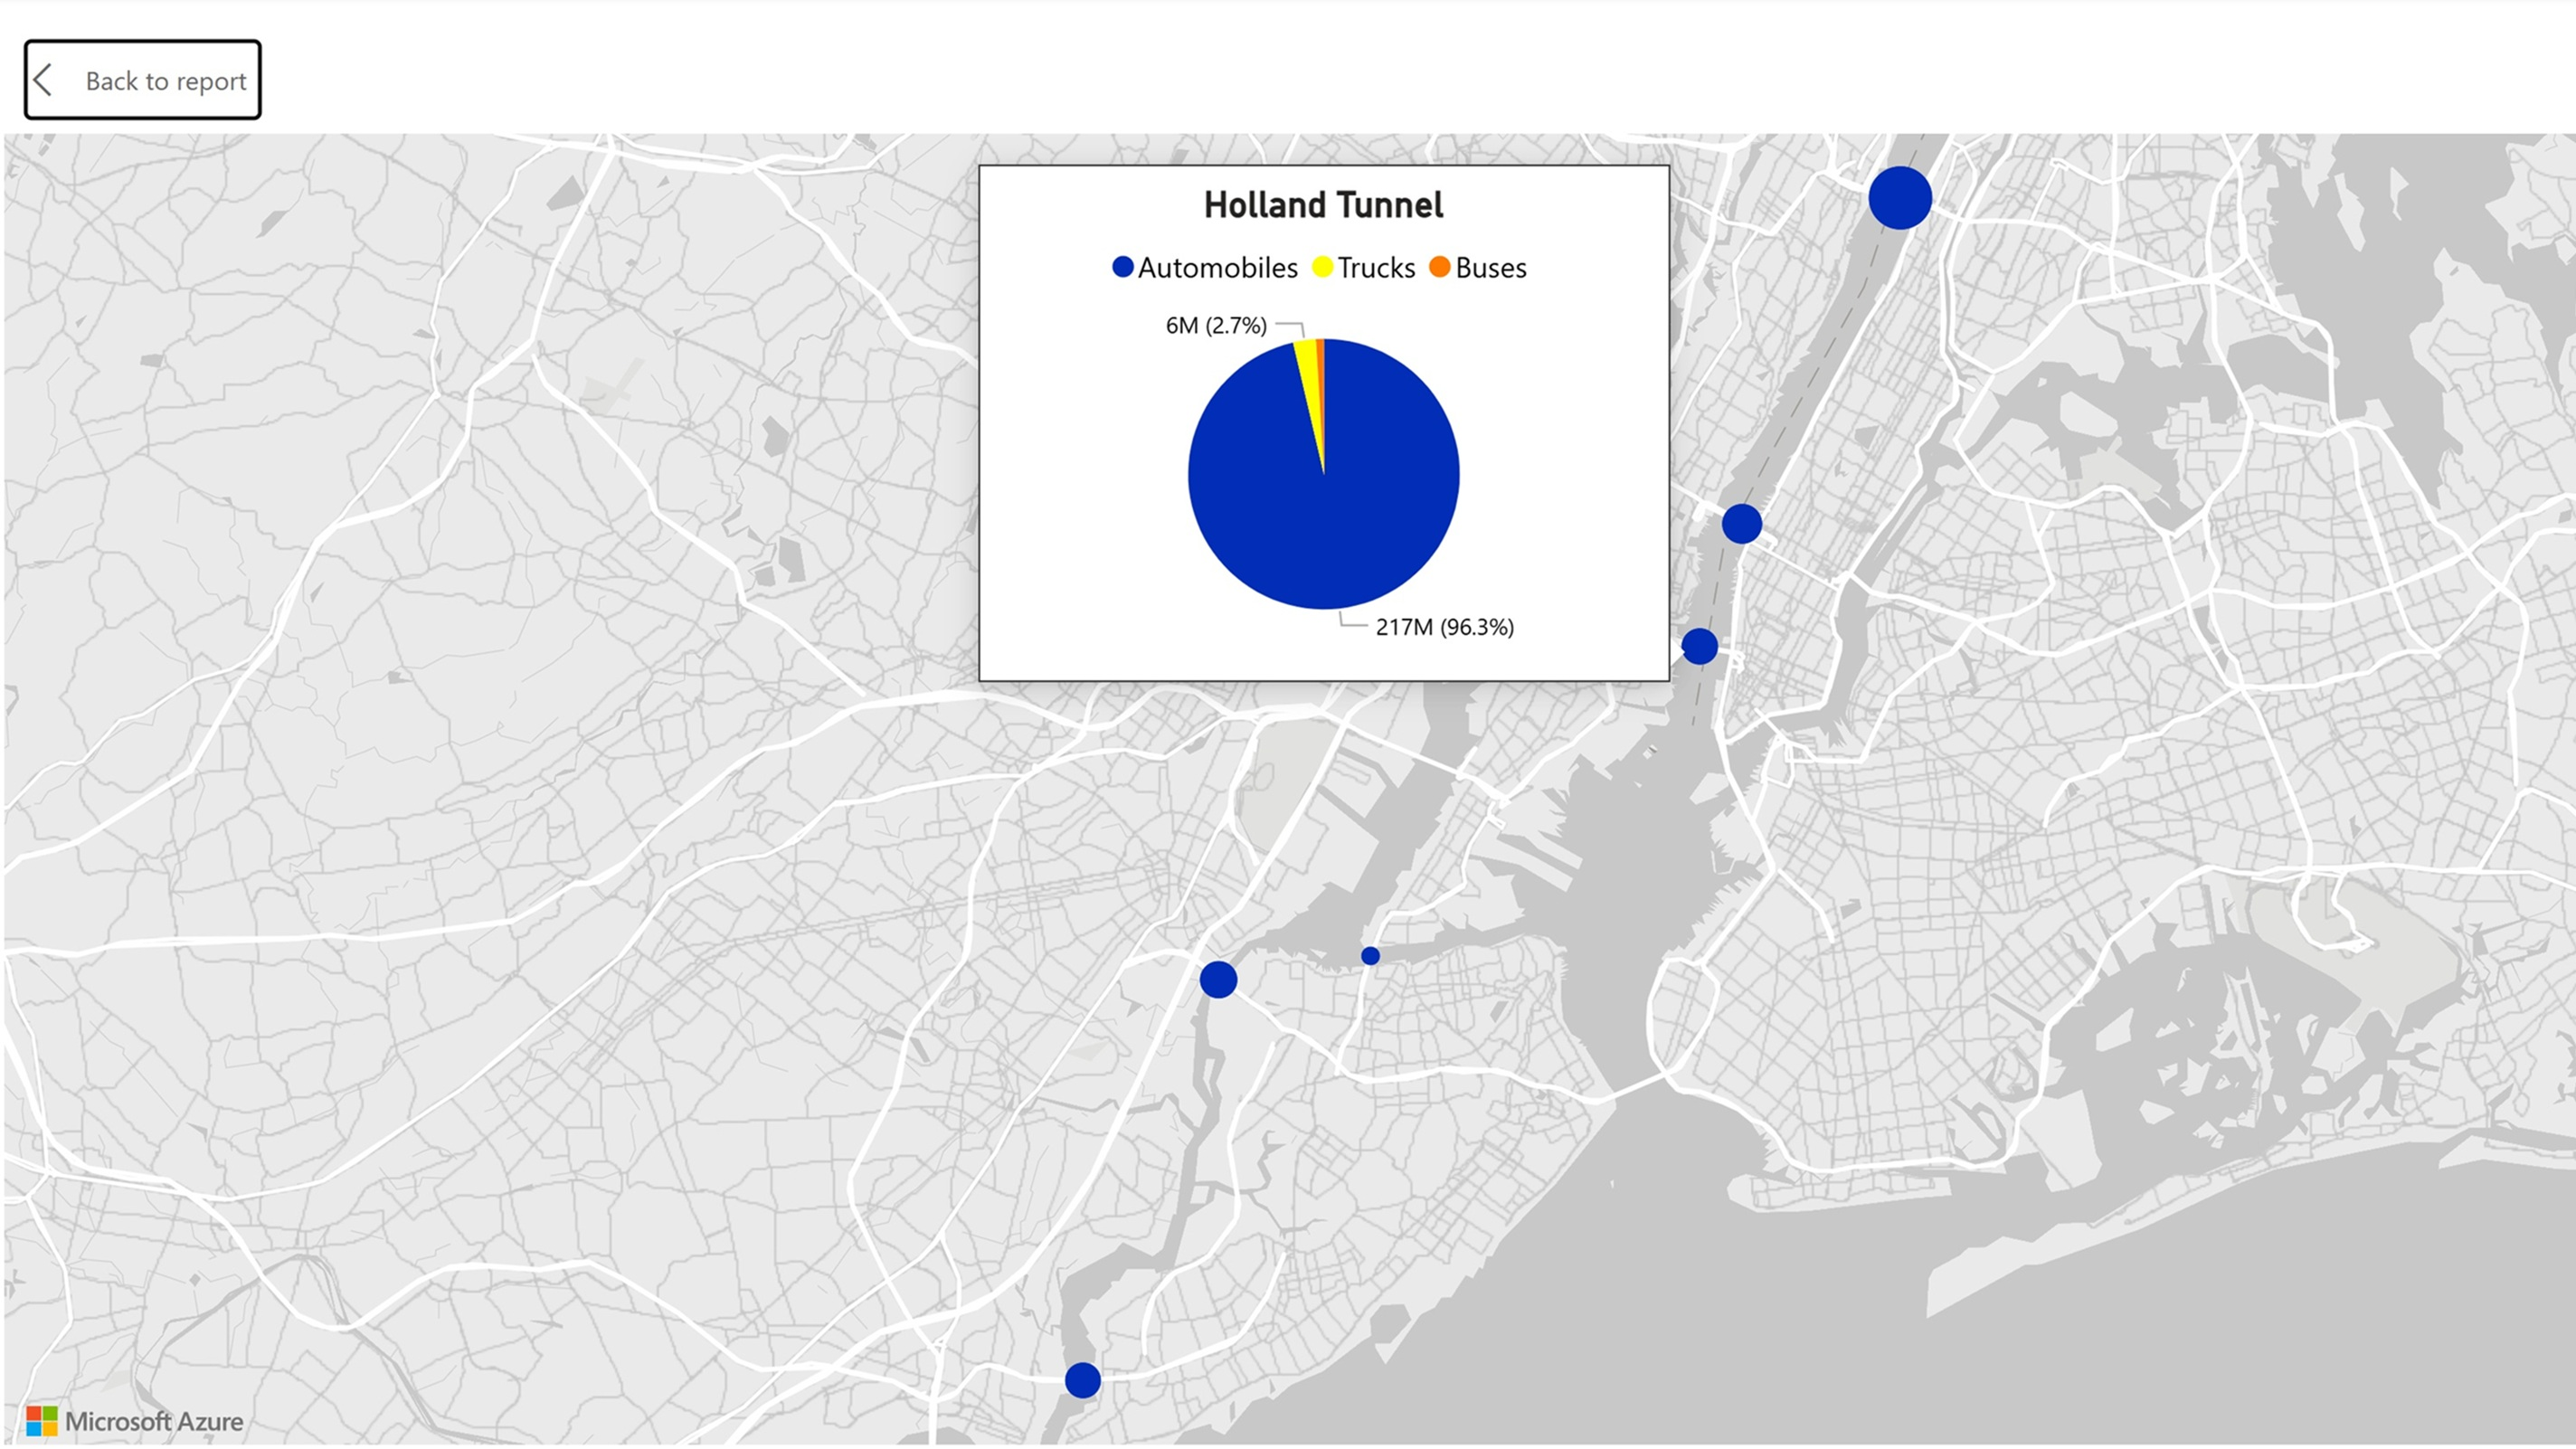

What the dashboard file says about the page in this screenshot:
{"tool":"powerbi","page":{"name":"Tooltip - Map","canvas":[320,240],"ordinal":2},"visuals":[{"type":"pieChart","fields":{"Y":["Traffic._m Total Traffic","E-ZPass Usage._m E-ZPass Usage Avg Wtd"],"Category":["_ref Vehicle Types.Vehicle Type"]},"box":[8,8,304,224],"z":0}]}

Visuals, with their boxes on the page's 320x240 design canvas (x1, y1, x2, y2). These are canvas units, not pixel positions in the 2576x1449 screenshot, which may show the page scaled, cropped or inside an application window:
pieChart - Traffic._m Total Traffic x E-ZPass Usage._m E-ZPass Usage Avg Wtd: [8, 8, 312, 232]
